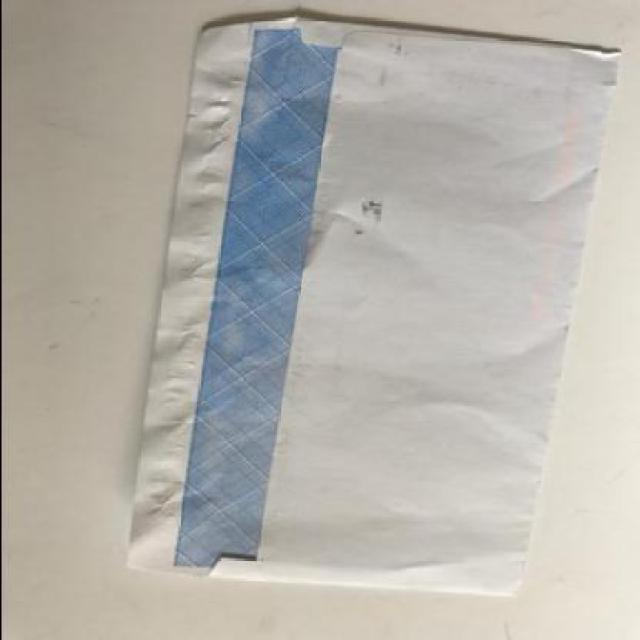PAPER: (120, 16, 623, 601)
